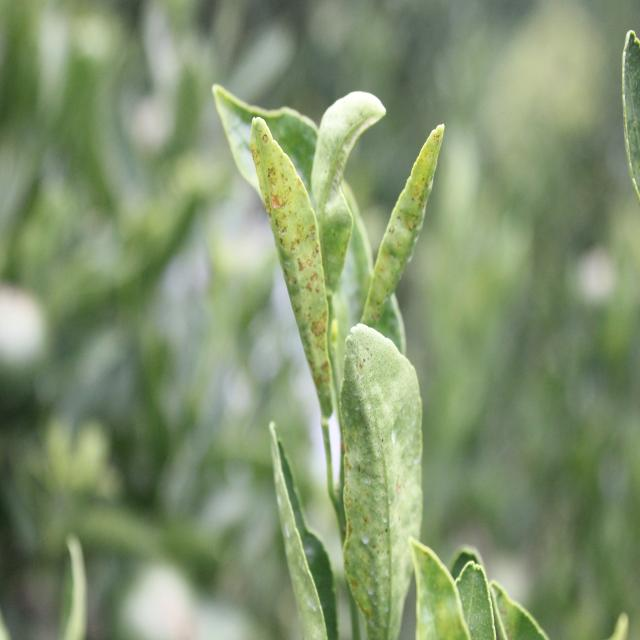canker: (248, 124, 336, 417), (336, 379, 422, 623), (364, 126, 448, 321)
